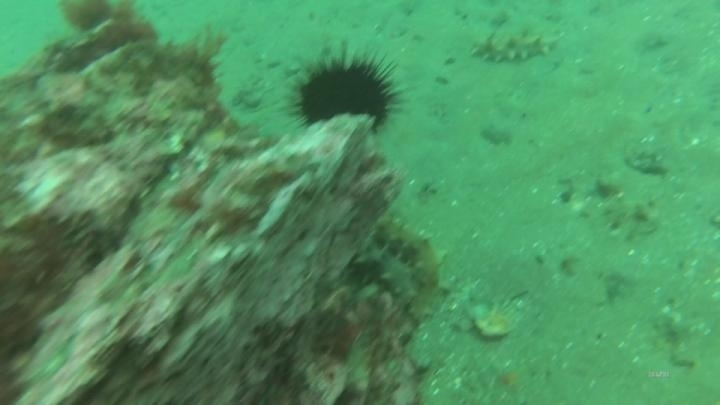echinus: (289, 47, 403, 131)
holothurian: (366, 212, 451, 323), (349, 233, 425, 309), (466, 24, 565, 68)
